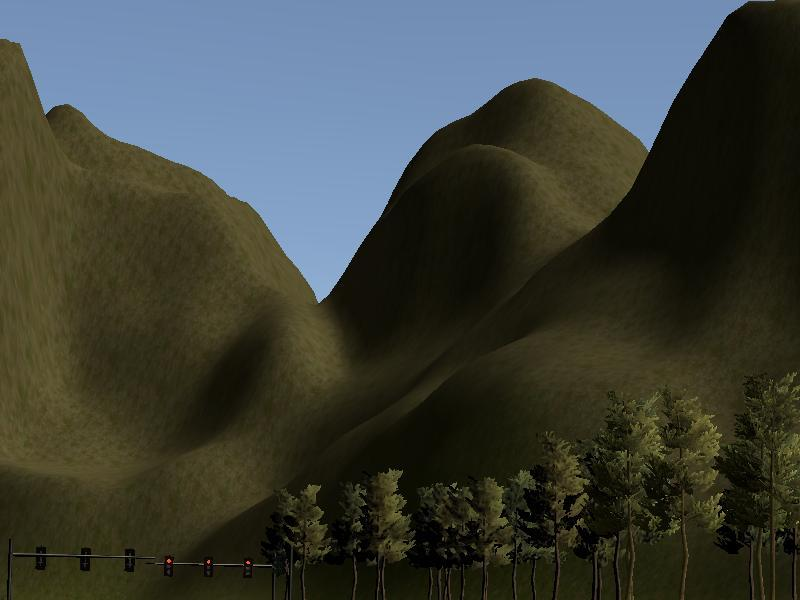Red: (203, 554, 214, 579), (163, 554, 173, 579), (242, 556, 252, 580)
